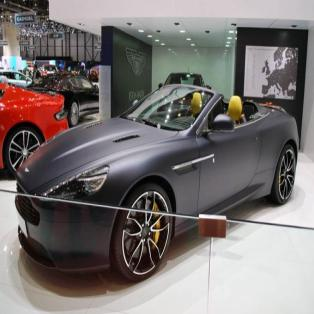Auto: (14, 83, 300, 282)
